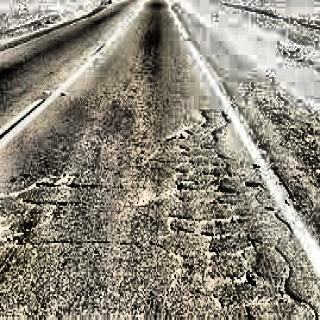alligator-crack: (143, 83, 314, 319), (166, 124, 300, 312), (0, 165, 86, 269)
crack: (91, 173, 141, 210), (86, 228, 141, 261)
